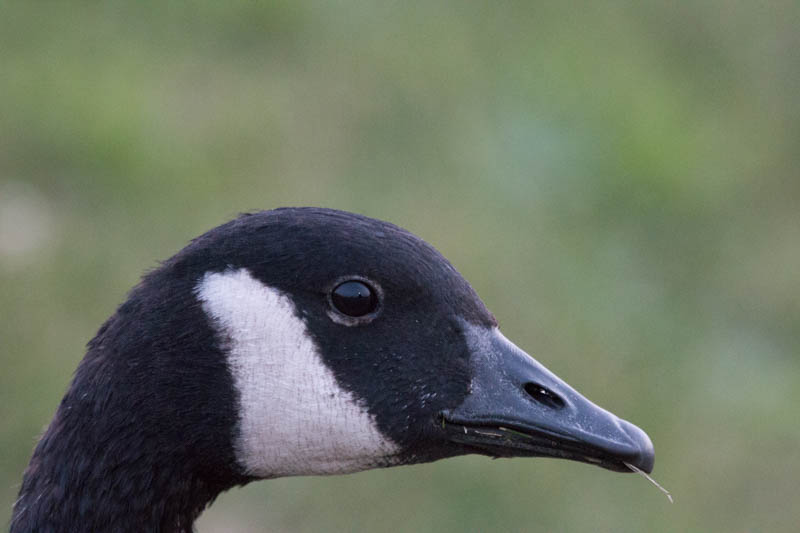goose-head: (94, 206, 655, 486)
